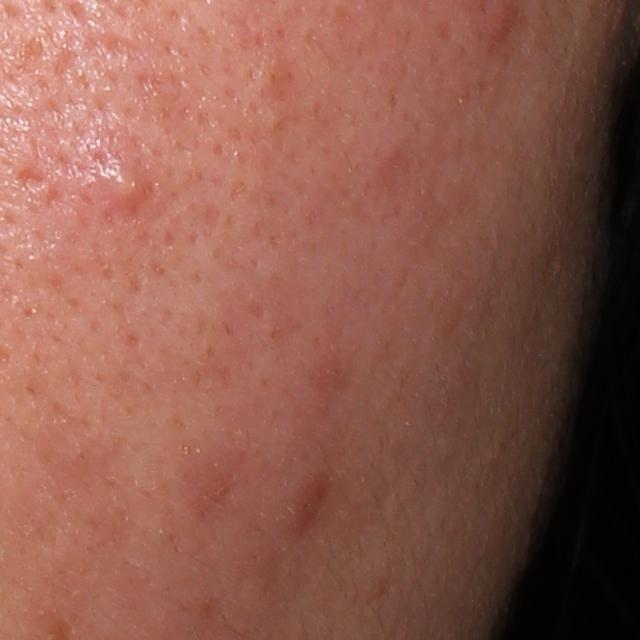atrophic_scar: (12, 167, 50, 193)
papule: (80, 148, 153, 227), (289, 478, 328, 531)
